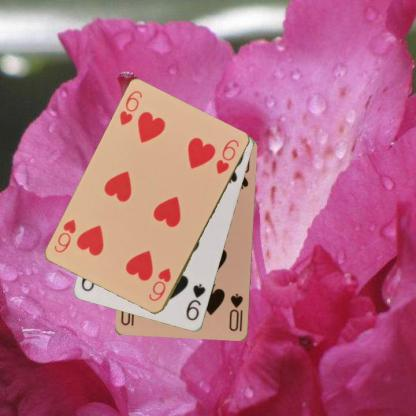10s: (226, 290, 245, 332)
6h: (117, 88, 144, 127), (146, 266, 172, 303)
9s: (183, 282, 207, 322)
